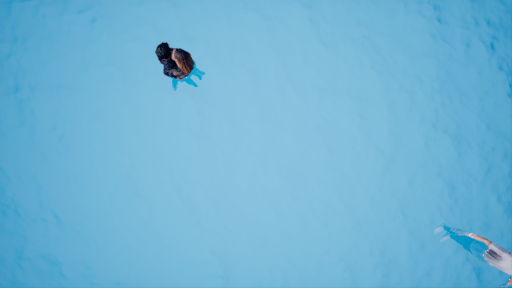person: (430, 205, 512, 284), (153, 36, 214, 94)
